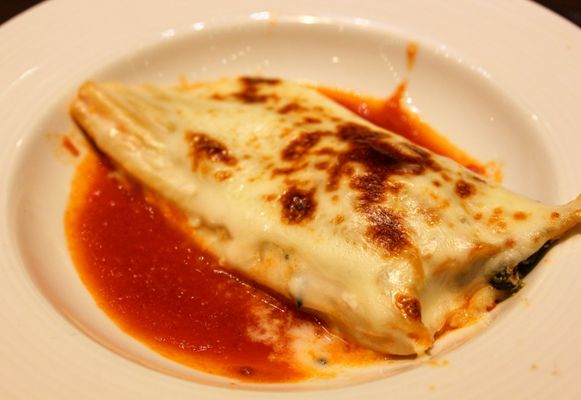sandwich: (53, 72, 579, 371)
